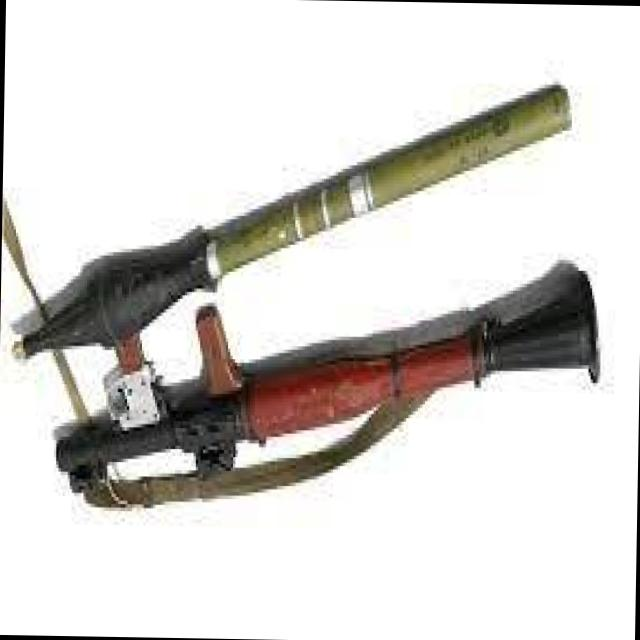Gun: (26, 200, 622, 527)
